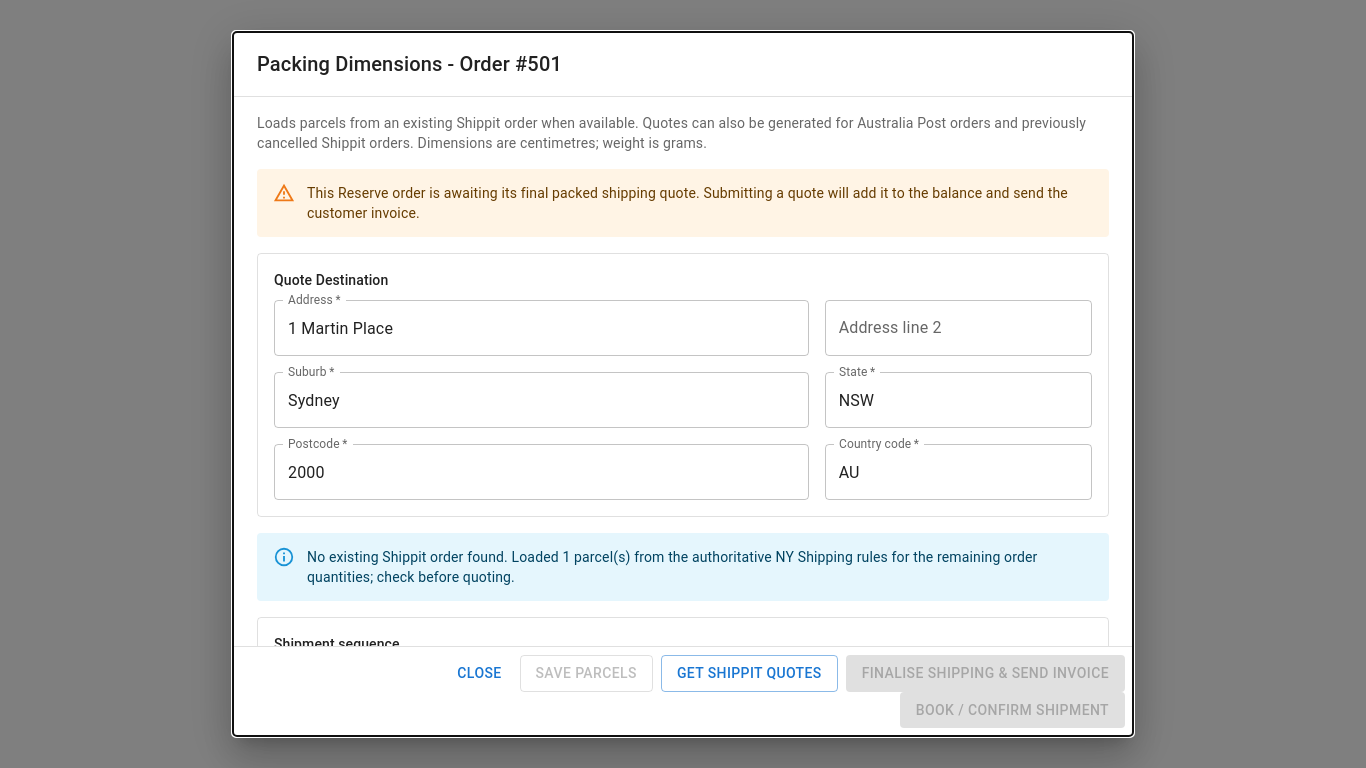
PackingDimensionsDialog › does not offer the extra shipping email on a reserve order
Click the button "Get Shippit Quotes": (749, 673) [661,655,838,692]
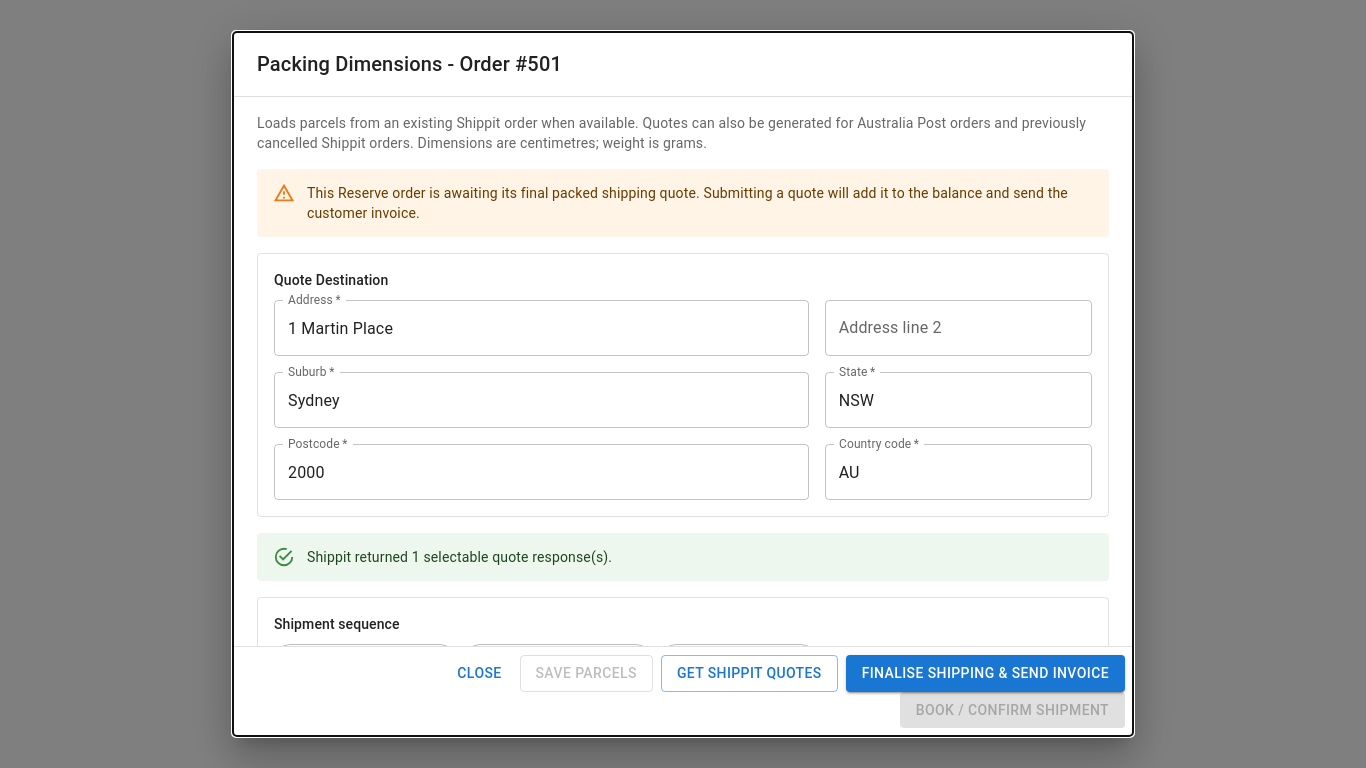
Expected: the button "Finalise Shipping & Send Invoice" is enabled, [846,655,1125,692]
